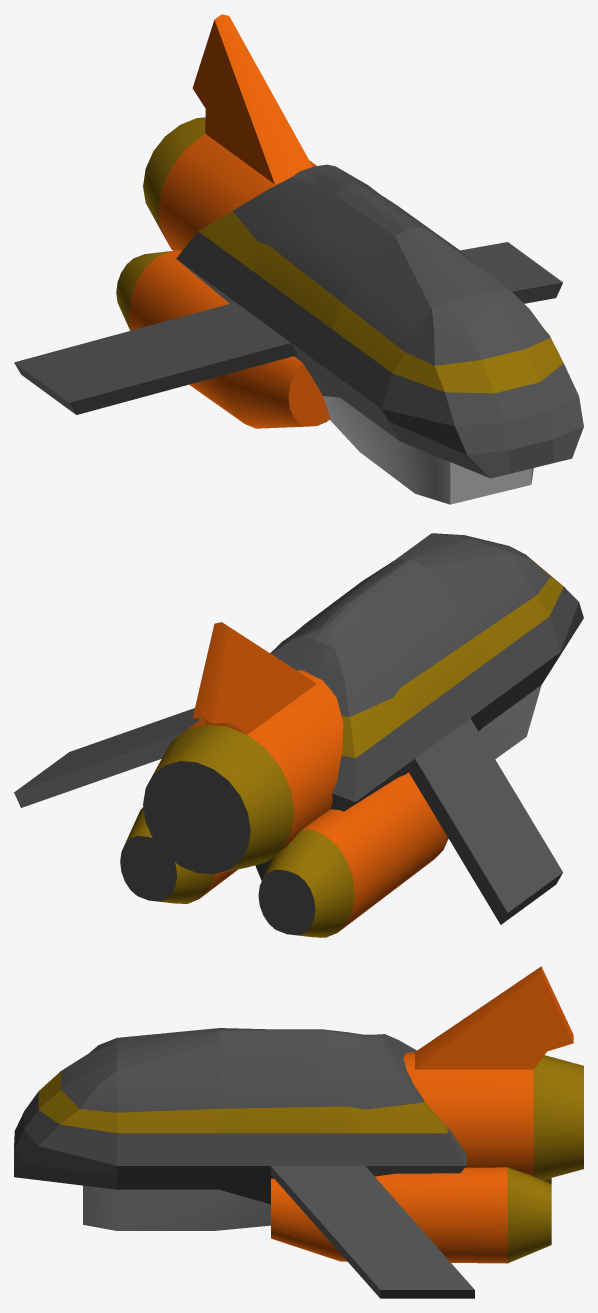
File: SpaceShip.fbx
3 renders of one model, top to bottom at view 1: azimuth 30°, elevation 25°; view 2: azimuth 150°, elevation 25°; view 3: azimuth 270°, elevation 25°, orthographic. The views are drawn at different scales.
Parts seen in each view (by area): view 1: Runko, Päämoottori, pCylinder5, Ase1; view 2: Runko, Päämoottori, pCylinder5, pCylinder4, Ase1; view 3: Runko, Päämoottori, pCylinder4, Ase1.
Part boxes in pixels (x1=…): Runko: x1=14, y1=164, x2=583, y2=478; Päämoottori: x1=143, y1=14, x2=316, y2=250; pCylinder5: x1=116, y1=250, x2=330, y2=428; Ase1: x1=323, y1=396, x2=533, y2=504; Runko: x1=14, y1=533, x2=583, y2=924; Päämoottori: x1=143, y1=622, x2=343, y2=874; pCylinder5: x1=258, y1=772, x2=448, y2=937; pCylinder4: x1=120, y1=807, x2=237, y2=903; Ase1: x1=478, y1=685, x2=541, y2=759; Runko: x1=14, y1=1028, x2=474, y2=1298; Päämoottori: x1=403, y1=966, x2=583, y2=1180; pCylinder4: x1=271, y1=1167, x2=551, y2=1263; Ase1: x1=83, y1=1185, x2=270, y2=1230.
Bounding box in the file's own units: 5.53 × 3.77 × 6.49.
